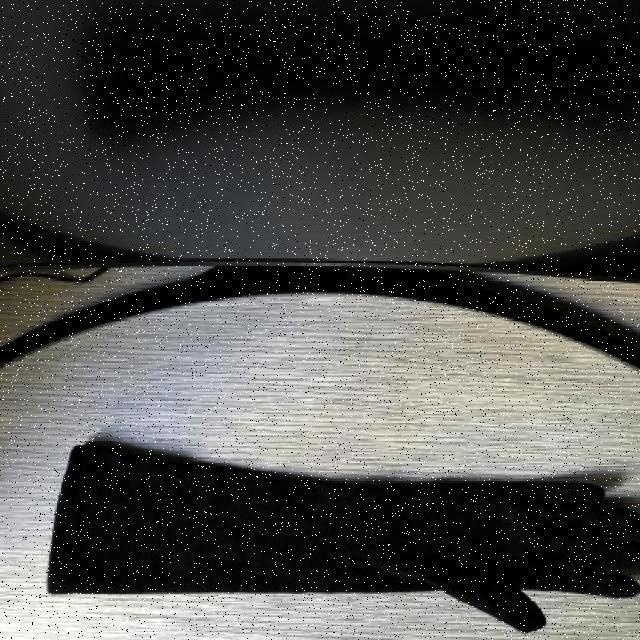Guantes: (42, 408, 640, 640)
